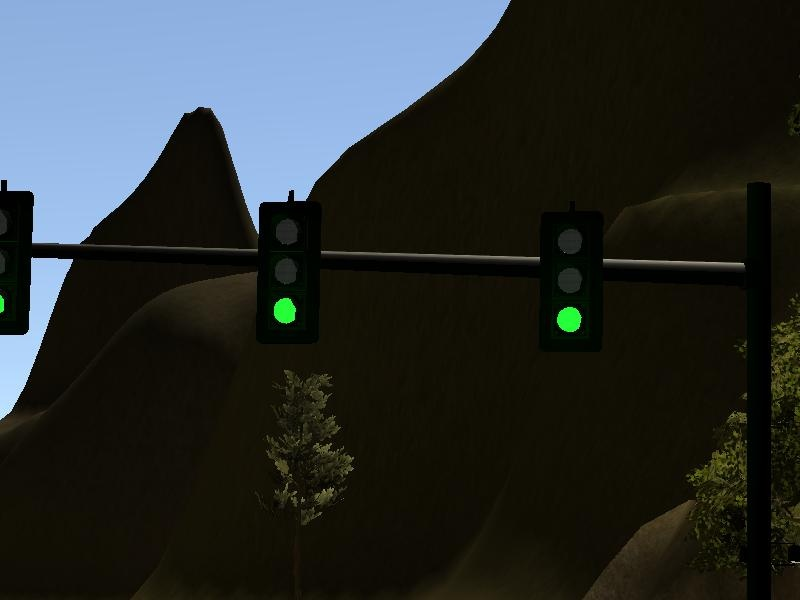green: (255, 195, 330, 345), (530, 197, 599, 343)
